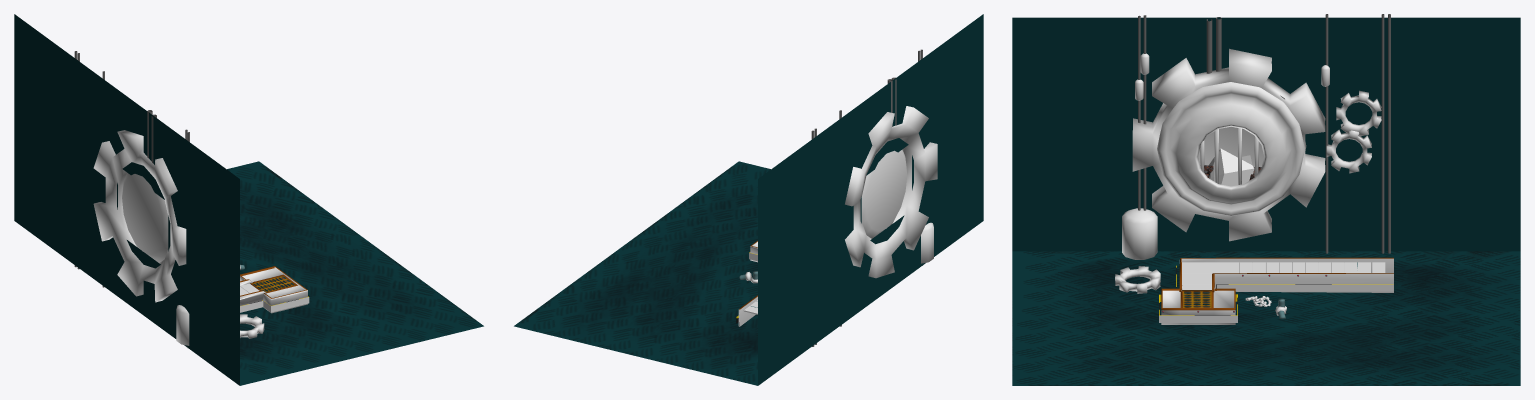
Rendered from заводсцена.fbx.
3 views of the same model, side by side, from view 1: azimuth 30°, elevation 25°; view 2: azimuth 150°, elevation 25°; view 3: azimuth 270°, elevation 25° (orthographic). The views are drawn at different scales.
Parts seen in each view (by area): view 1: Plane, Torus.002, Sphere.007, Cube.003, Cylinder.002, Plane.001, Torus.003, Cube.001; view 2: Plane, Torus.002, Sphere.007, Cylinder.002; view 3: Plane, Sphere.007, Torus.002, Cube, Cube.002, Plane.001, Cylinder.002, Cube.003, Circle.009, Torus, Torus.001, Cube.007 (+5 smaller).
Part boxes in pixels (x1,y1,x2,y2): Plane: (14, 14, 483, 385); Torus.002: (93, 130, 186, 302); Sphere.007: (122, 173, 168, 262); Cube.003: (240, 266, 307, 313); Cylinder.002: (176, 305, 189, 345); Plane.001: (240, 296, 309, 312); Torus.003: (240, 314, 264, 338); Cube.001: (252, 276, 294, 292); Plane: (514, 14, 983, 385); Torus.002: (845, 106, 937, 278); Sphere.007: (861, 150, 907, 238); Cylinder.002: (921, 222, 933, 263); Plane: (1012, 17, 1520, 385); Sphere.007: (1157, 82, 1306, 216); Torus.002: (1132, 48, 1325, 241); Cube: (1179, 257, 1393, 292); Cube.002: (1182, 262, 1385, 289); Plane.001: (1159, 265, 1393, 322); Cylinder.002: (1122, 208, 1157, 259); Cube.003: (1161, 288, 1235, 324); Circle.009: (1381, 14, 1390, 253); Torus: (1336, 90, 1381, 136); Torus.001: (1326, 129, 1371, 173); Cube.007: (1208, 148, 1254, 186).
Bounding box in the file's own units: 1934 × 1583 × 2994.
